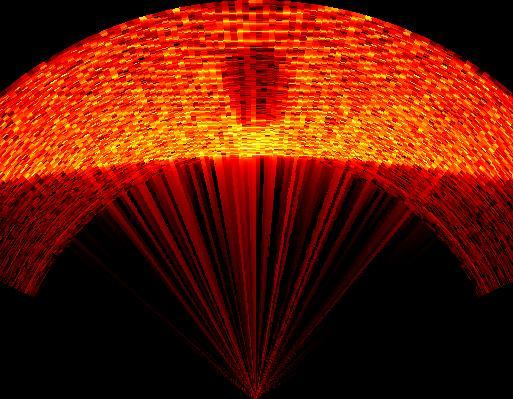box_crate: (218, 45, 292, 158)
